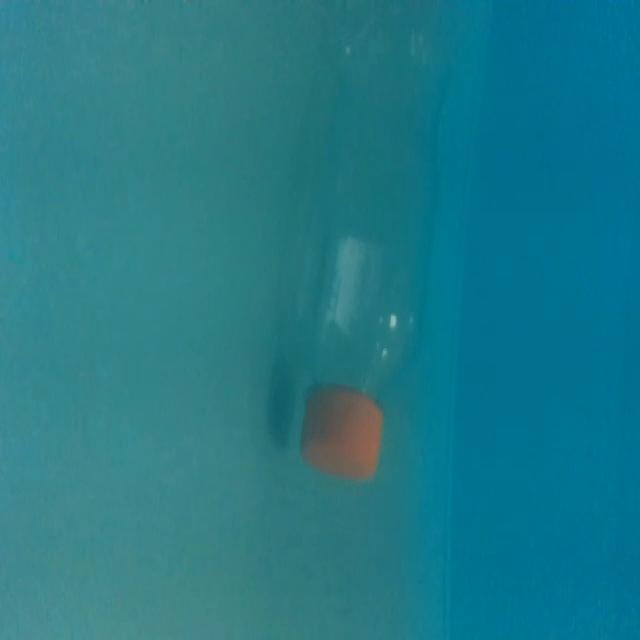plastic bottle: (291, 0, 462, 488)
